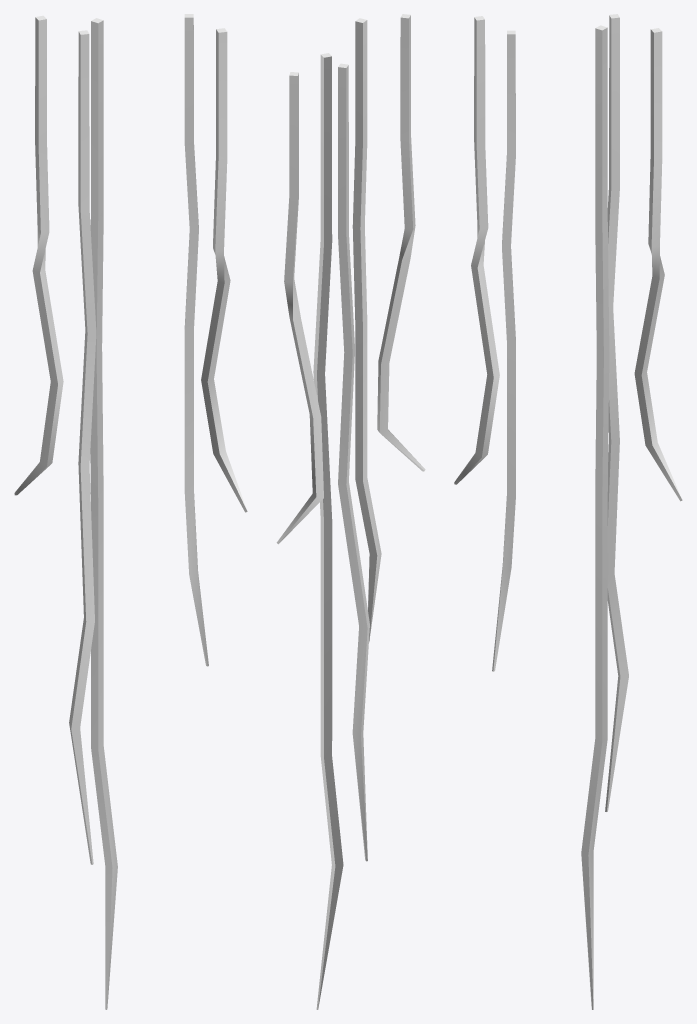
File: SM_Tree_Vines_04.glb
The picture shows the model from 3 angles, left to right: view 1: azimuth 90°, elevation 25°; view 2: azimuth 150°, elevation 25°; view 3: azimuth 270°, elevation 25°; orthographic projection. The views are drawn at different scales.
Parts seen in each view (by area): view 1: SM_Tree_Vines_04; view 2: SM_Tree_Vines_04; view 3: SM_Tree_Vines_04.
Part boxes in pixels (x1,y1,x2,y2): SM_Tree_Vines_04: (14,14,247,1009); SM_Tree_Vines_04: (276,14,425,1009); SM_Tree_Vines_04: (454,14,682,1009).
Bounding box in the file's own units: 0.3319 × 4.67 × 0.99.
1 material, 1 textured.
